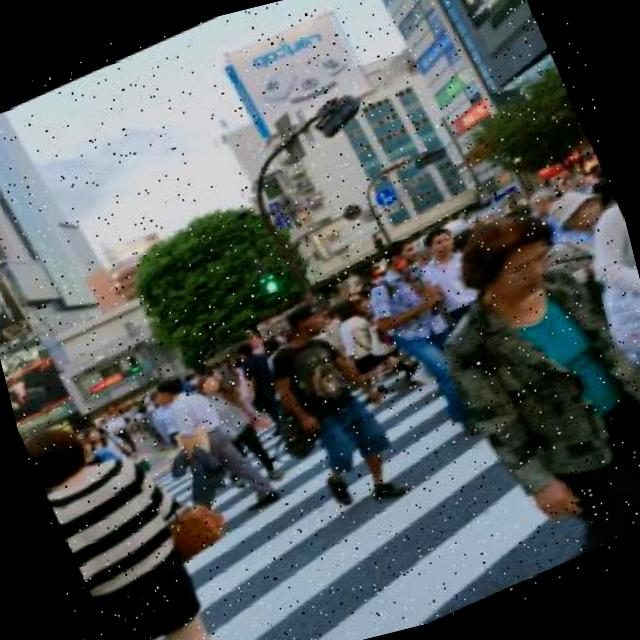Person: (387, 177, 640, 589), (17, 379, 244, 640), (247, 284, 418, 530), (352, 228, 486, 448), (130, 352, 276, 540), (401, 209, 502, 339), (190, 358, 282, 498)
